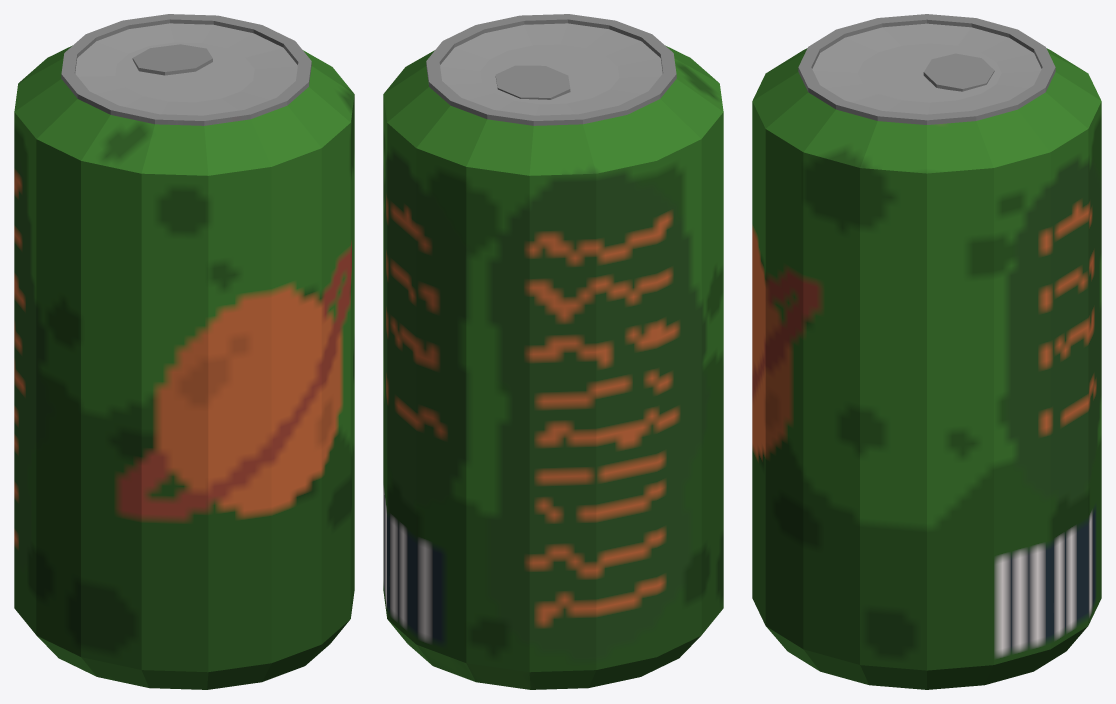
The model's file is SodaCAN_withUVfbx.fbx.
3 views of the same model, side by side, from view 1: azimuth 30°, elevation 25°; view 2: azimuth 150°, elevation 25°; view 3: azimuth 270°, elevation 25° (orthographic).
Visible parts, largest first — view 1: soda can; view 2: soda can; view 3: soda can.
Boxes of the visible parts, x1,y1,x2,y2 form: soda can: (14, 14, 354, 689); soda can: (383, 14, 723, 689); soda can: (752, 14, 1101, 689).
Bounding box in the file's own units: 8.74 × 15.79 × 8.92.
